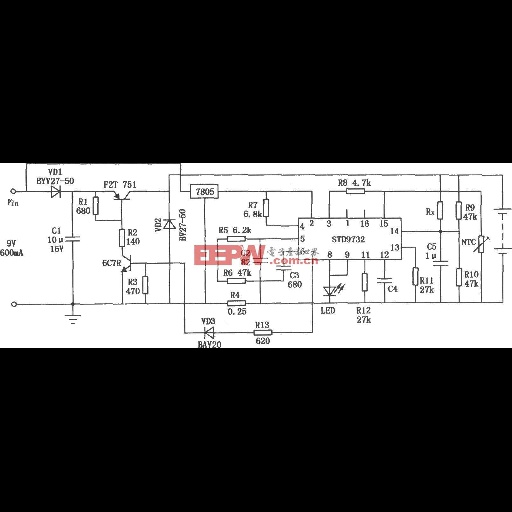capacitor: (373, 274, 394, 285), (64, 234, 82, 244), (273, 263, 293, 272), (432, 259, 449, 268)
firstresistance: (250, 327, 278, 338), (225, 275, 248, 287), (140, 273, 151, 297), (91, 194, 102, 217), (343, 186, 367, 196), (261, 195, 271, 218), (223, 234, 248, 243), (116, 226, 126, 248), (358, 272, 369, 292), (437, 199, 446, 223), (224, 298, 247, 307), (411, 265, 420, 288), (454, 266, 463, 288), (455, 199, 463, 222)
npn: (119, 253, 134, 275)
seconddiode: (48, 184, 65, 200), (201, 325, 217, 340), (163, 216, 176, 232)
secondled: (319, 281, 348, 297)
